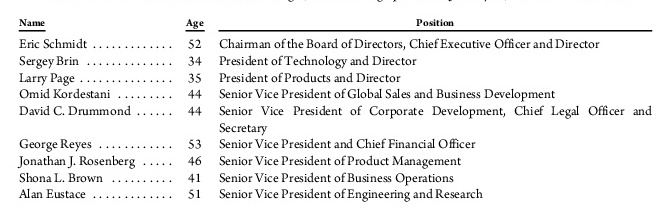table: (0, 0, 668, 218)
